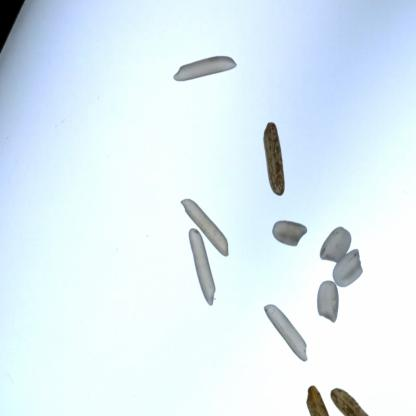Full: (170, 196, 238, 257), (257, 303, 319, 361), (162, 52, 236, 96), (185, 231, 222, 316), (257, 118, 292, 200), (268, 215, 314, 257), (310, 279, 349, 326), (331, 246, 365, 296), (318, 222, 353, 270), (332, 380, 378, 416), (300, 382, 331, 416)
